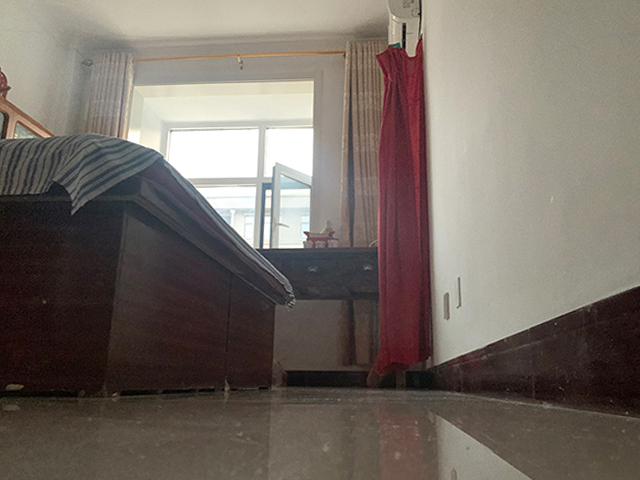bed: (1, 134, 295, 399)
curtain: (338, 37, 386, 367)
